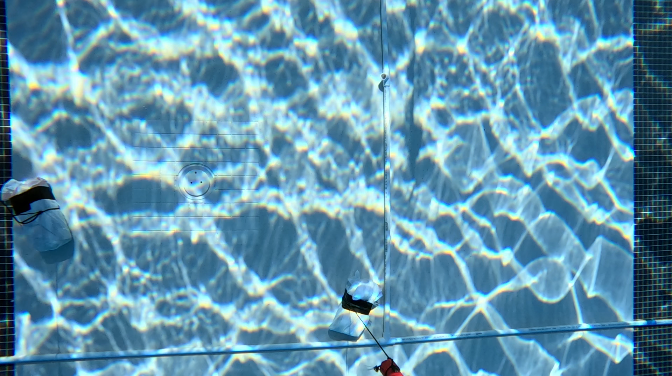sandbag: (1, 178, 72, 250), (329, 275, 379, 335)
